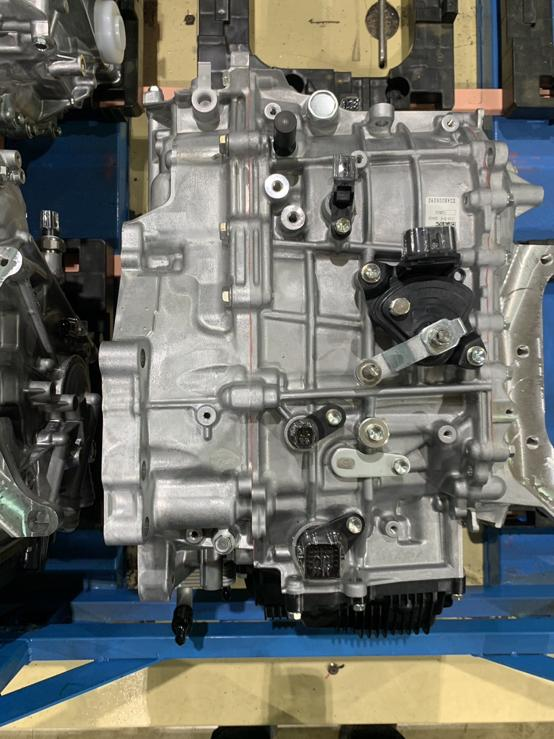gearbox_type2: (94, 78, 553, 634)
gearbox_type2_FP1: (356, 250, 493, 383)
gearbox_type2_FP2: (215, 130, 276, 305)
gearbox_type2_FP3: (216, 379, 283, 414)
